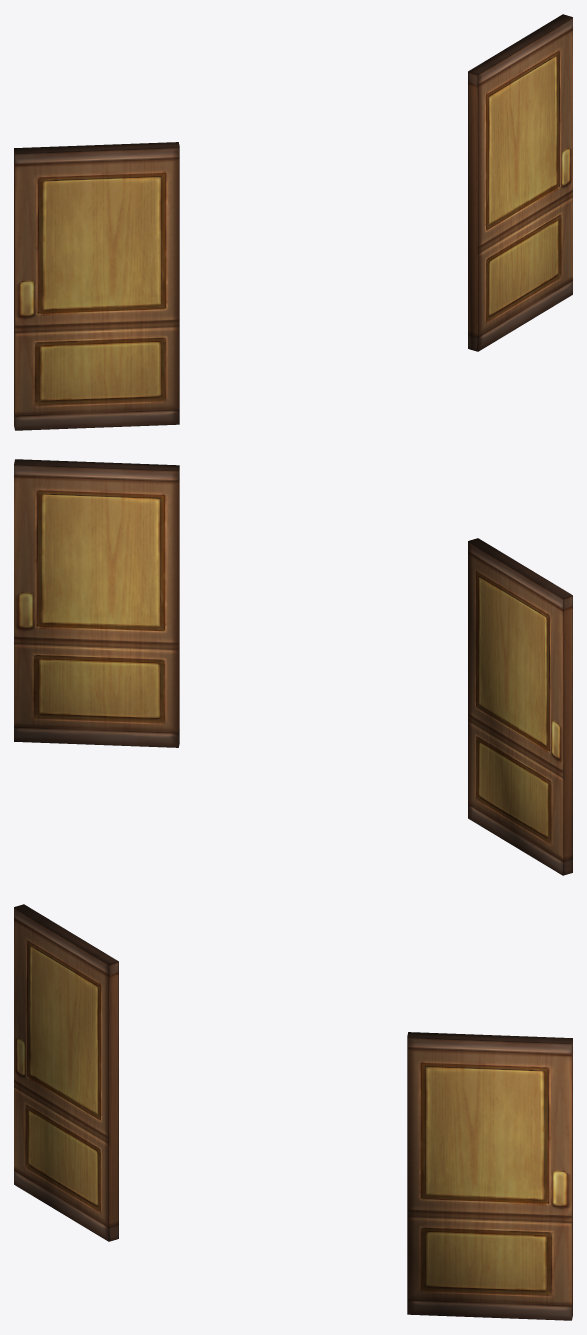
The model's file is a_SCdoor05.glb.
3 renders of one model, top to bottom at view 1: azimuth 30°, elevation 25°; view 2: azimuth 150°, elevation 25°; view 3: azimuth 330°, elevation 25°, orthographic.
Visible parts, largest first — view 1: a_SCdoor05; view 2: a_SCdoor05; view 3: a_SCdoor05.
Boxes of the visible parts, bbox=[...] form: a_SCdoor05: bbox=[14, 14, 572, 430]; a_SCdoor05: bbox=[14, 459, 572, 875]; a_SCdoor05: bbox=[14, 904, 572, 1320].
Size of the model in its own units: 5.26 by 2.5 by 0.6613.
1 material, 1 textured.
